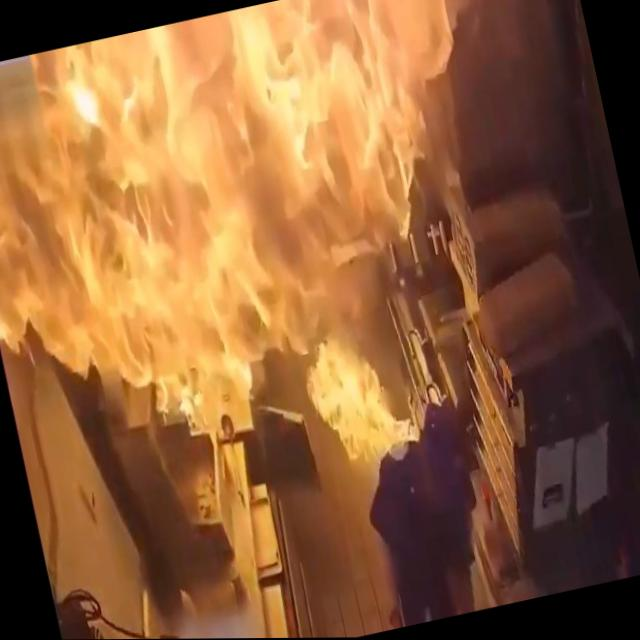fire: (0, 0, 561, 542)
